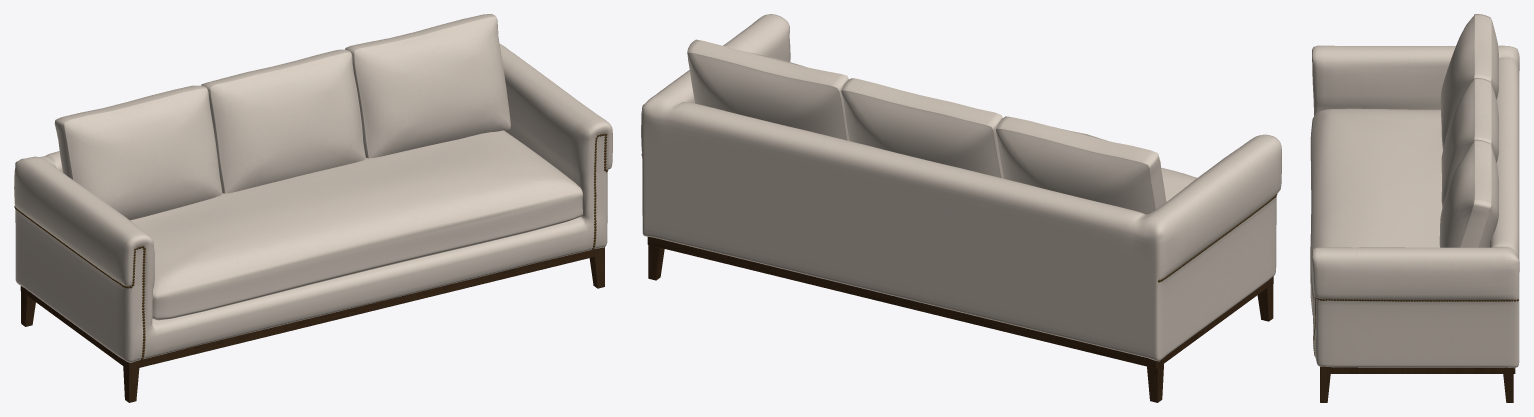
Rendered from B075X4QMX3.glb.
The picture shows the model from 3 angles, left to right: view 1: azimuth 30°, elevation 25°; view 2: azimuth 150°, elevation 25°; view 3: azimuth 270°, elevation 25°; orthographic projection. The views are drawn at different scales.
Parts seen in each view (by area): view 1: RootNode; view 2: RootNode; view 3: RootNode.
Boxes of the visible parts, bbox=[...] form: RootNode: bbox=[14, 14, 612, 402]; RootNode: bbox=[641, 14, 1281, 402]; RootNode: bbox=[1310, 14, 1519, 402].
Size of the model in its own units: 2.2 by 0.9115 by 0.9016.
Materials: 1 (1 with a texture image).
